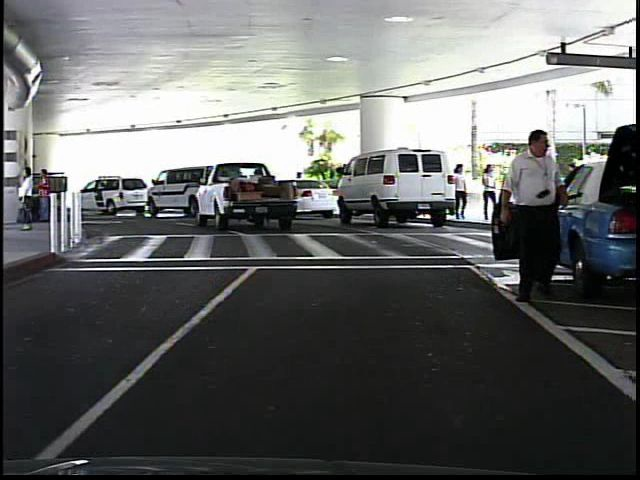person: (496, 122, 570, 308), (479, 162, 499, 222), (450, 159, 468, 225), (291, 167, 309, 214)
